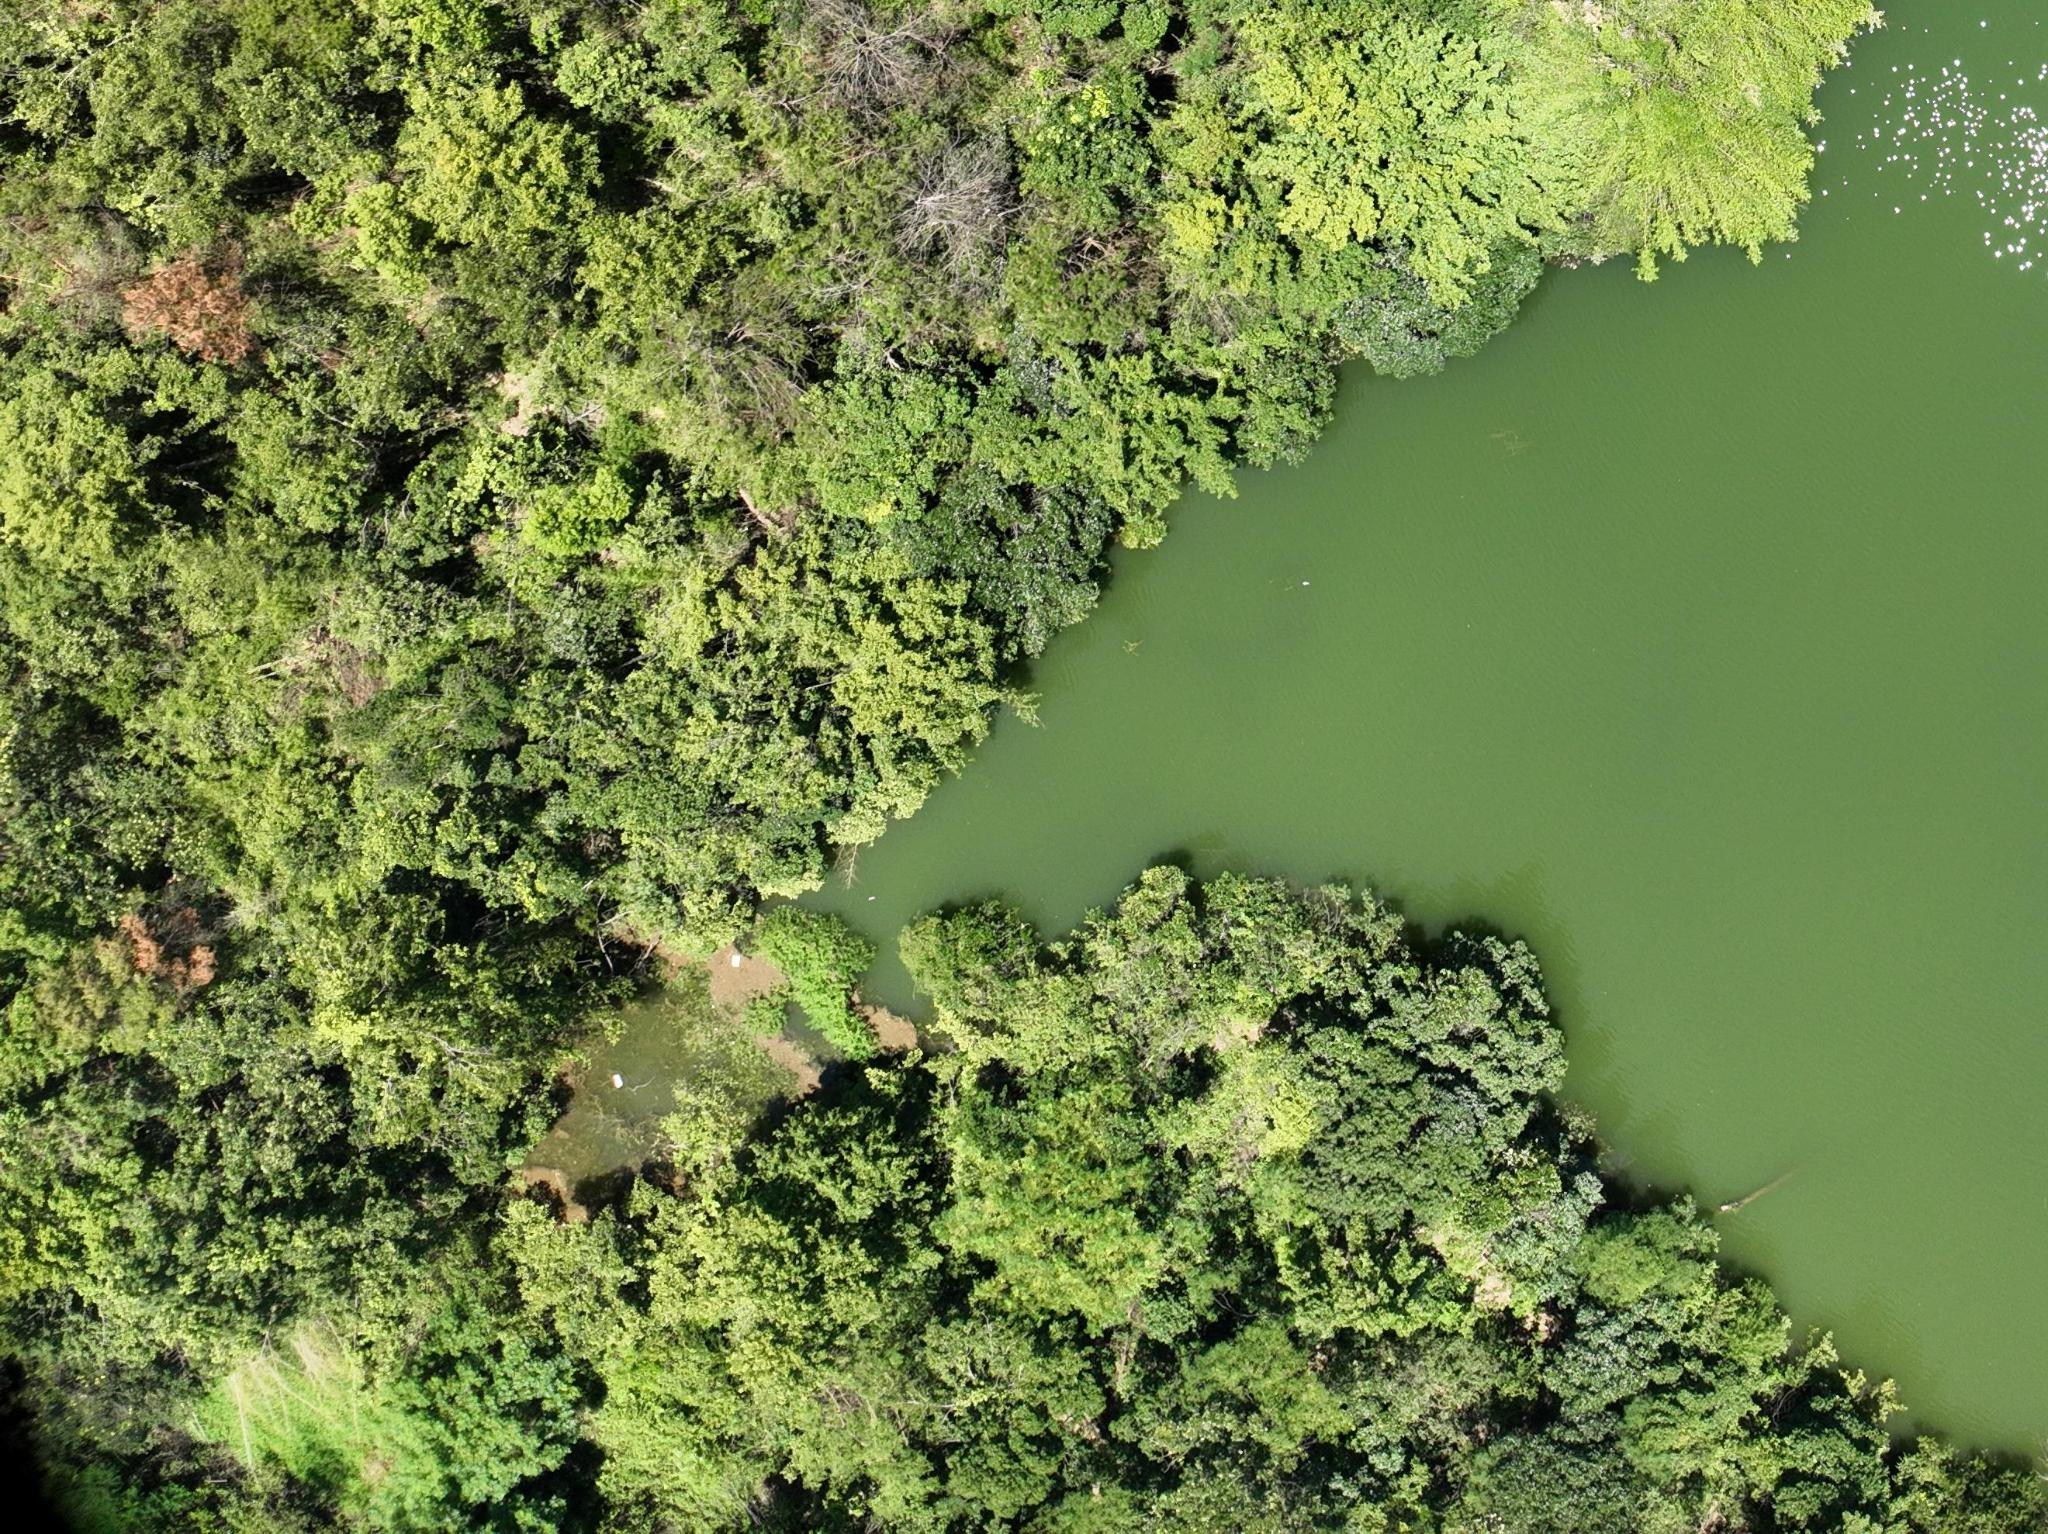dead: (817, 16, 936, 111), (901, 176, 1001, 267)
heavy: (119, 255, 258, 366), (122, 904, 216, 991)
